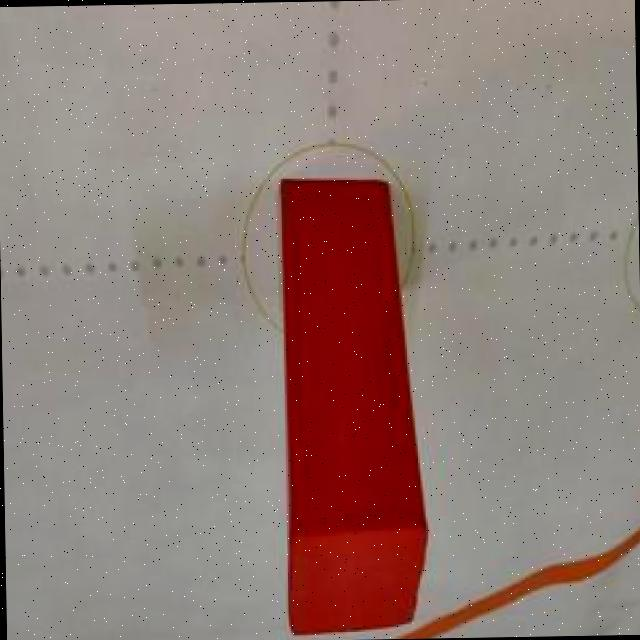redbox: (276, 174, 430, 637)
